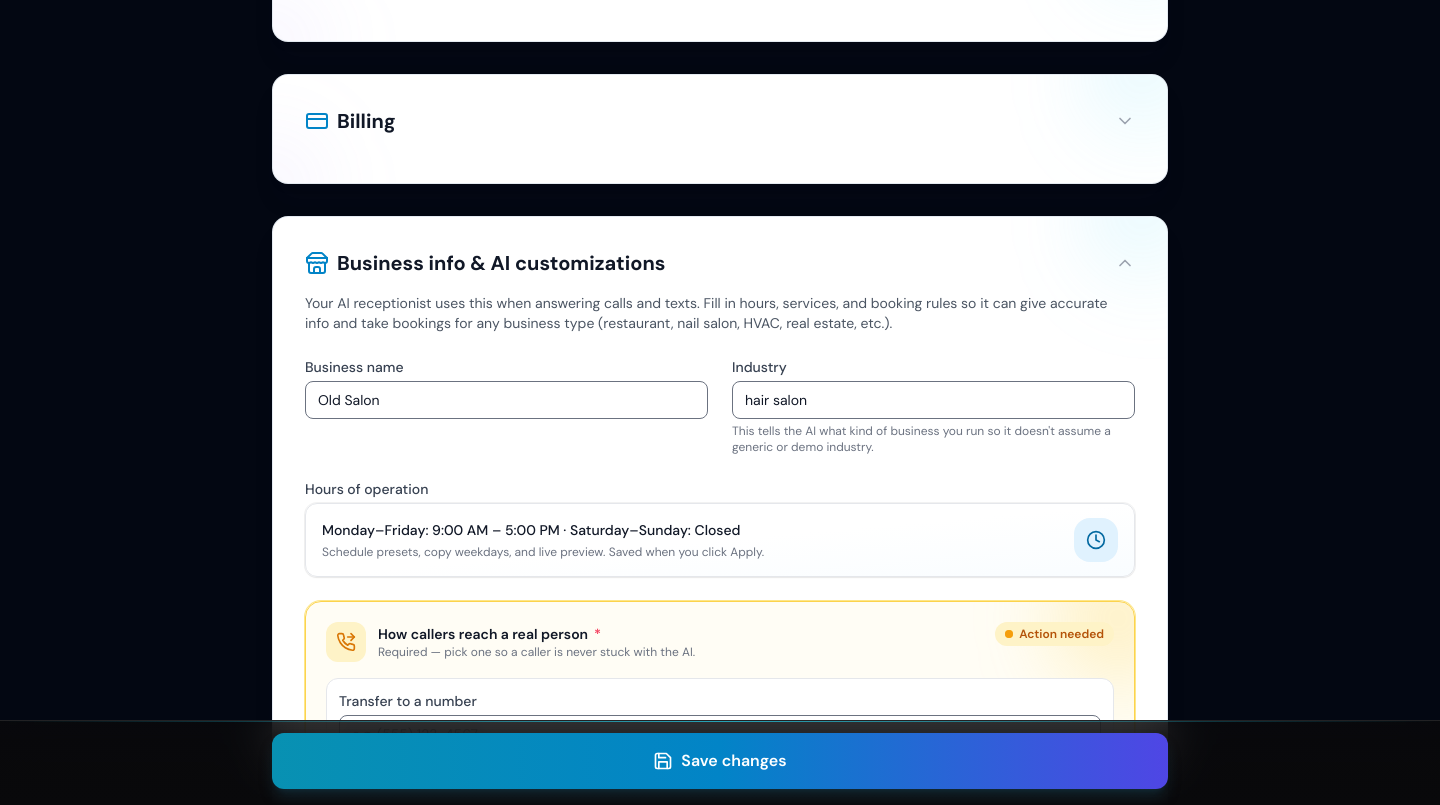
Test: Settings save flow › saves edited business info via PATCH and confirms success
The image size is (1440, 805).
(page scrolled)
Replace the text in the 1st field with placeholder "Your Business Name" with "New Salon Name": [506, 400] box x1=305 y1=381 x2=708 y2=419
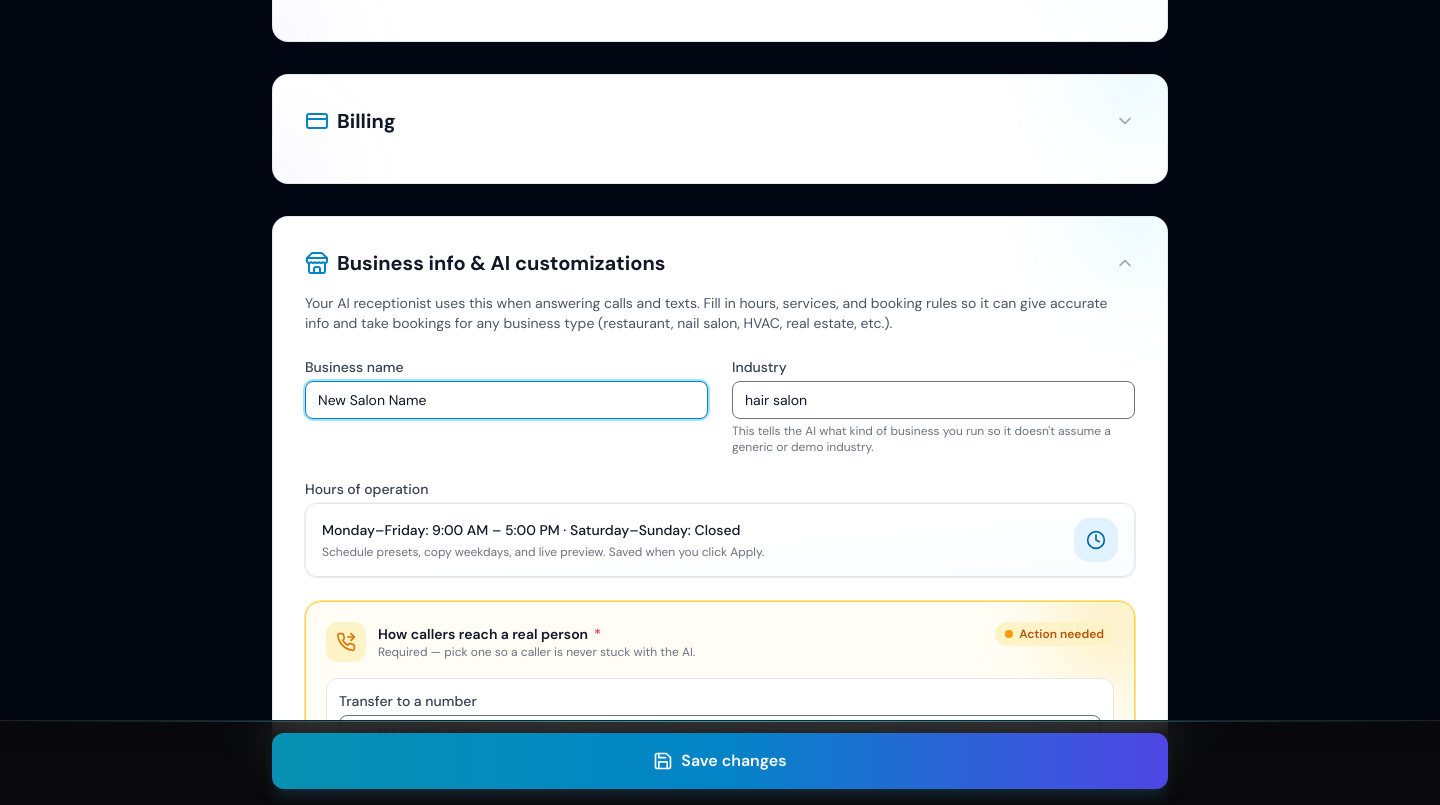
Click the button "Save changes": [720, 761] box x1=272 y1=733 x2=1168 y2=789
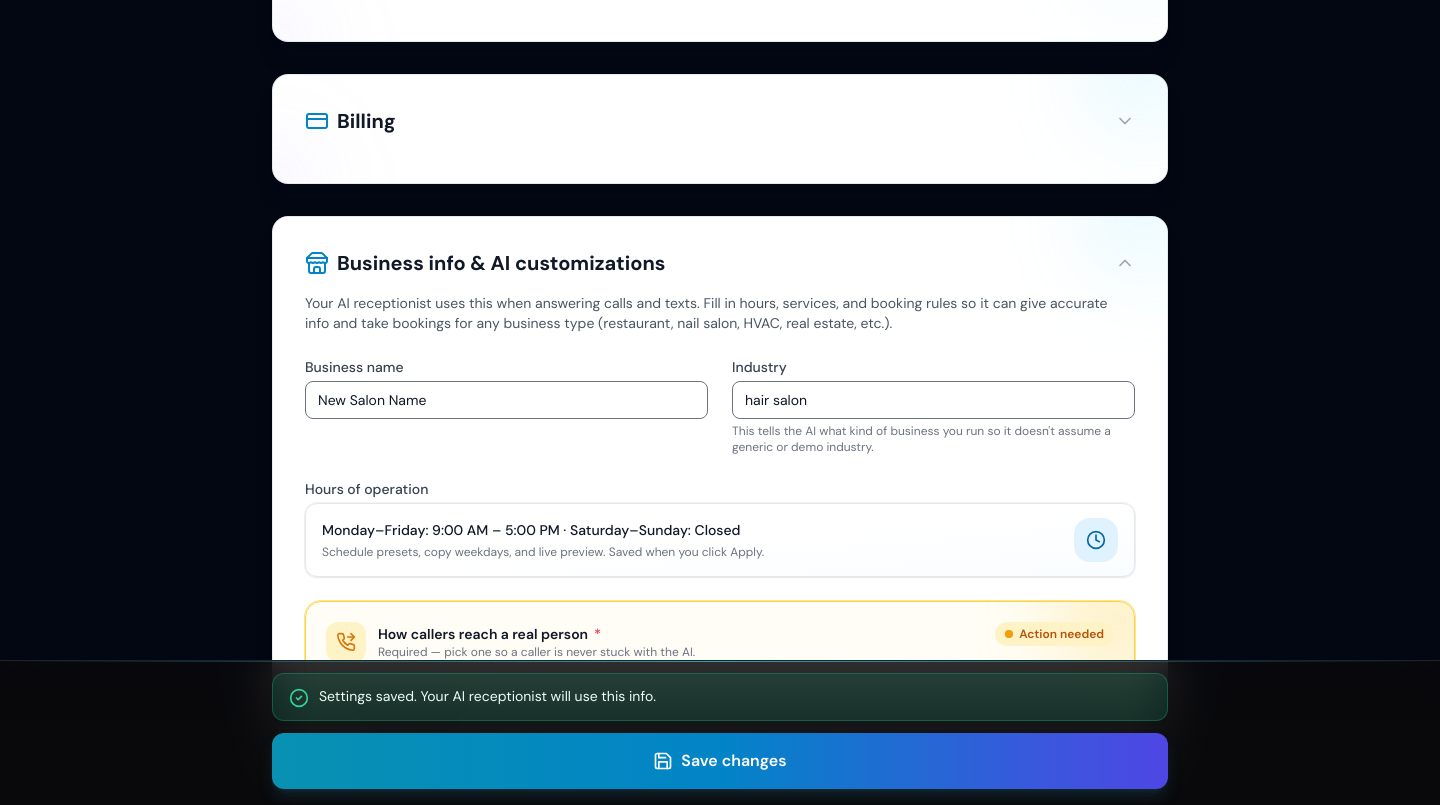
Now the text "Settings saved. Your AI receptionist will use this info." is shown, box x1=319 y1=686 x2=656 y2=706
